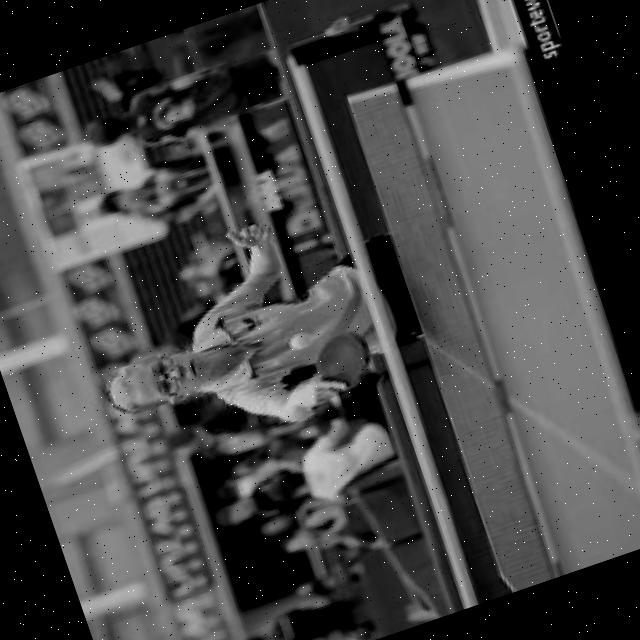ping-pong-ball: (282, 324, 322, 354)
